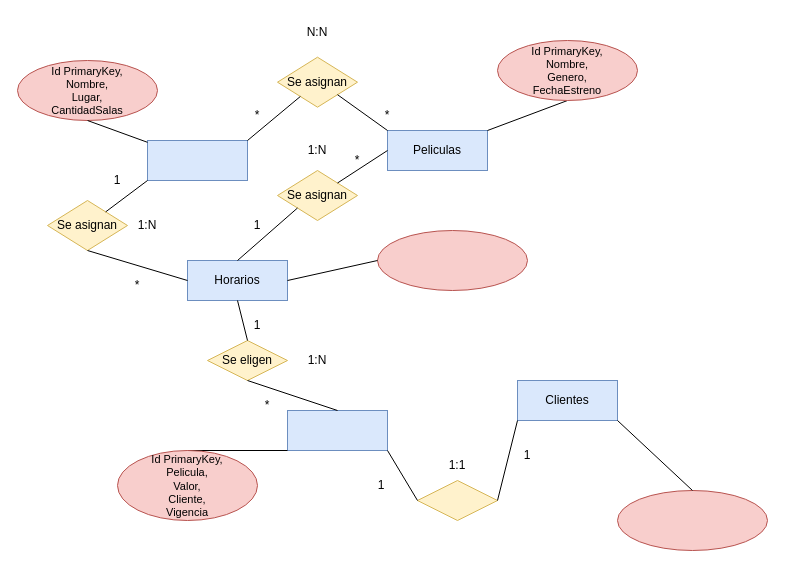
Image size: 785x574. Some labels were removed from this diagram. The centre of each missing label's shape, as x and y in pixels:
"Cines" belongs at (x=197, y=160).
"Entradas" belongs at (x=337, y=430).
"Id PrimaryKey, Horario, SalaDisponible" belongs at (x=452, y=260).
"Id PrimaryKey, Nombre, Edad, GeneroPreferido" belongs at (x=692, y=520).
"Se compra" belongs at (x=457, y=500).
